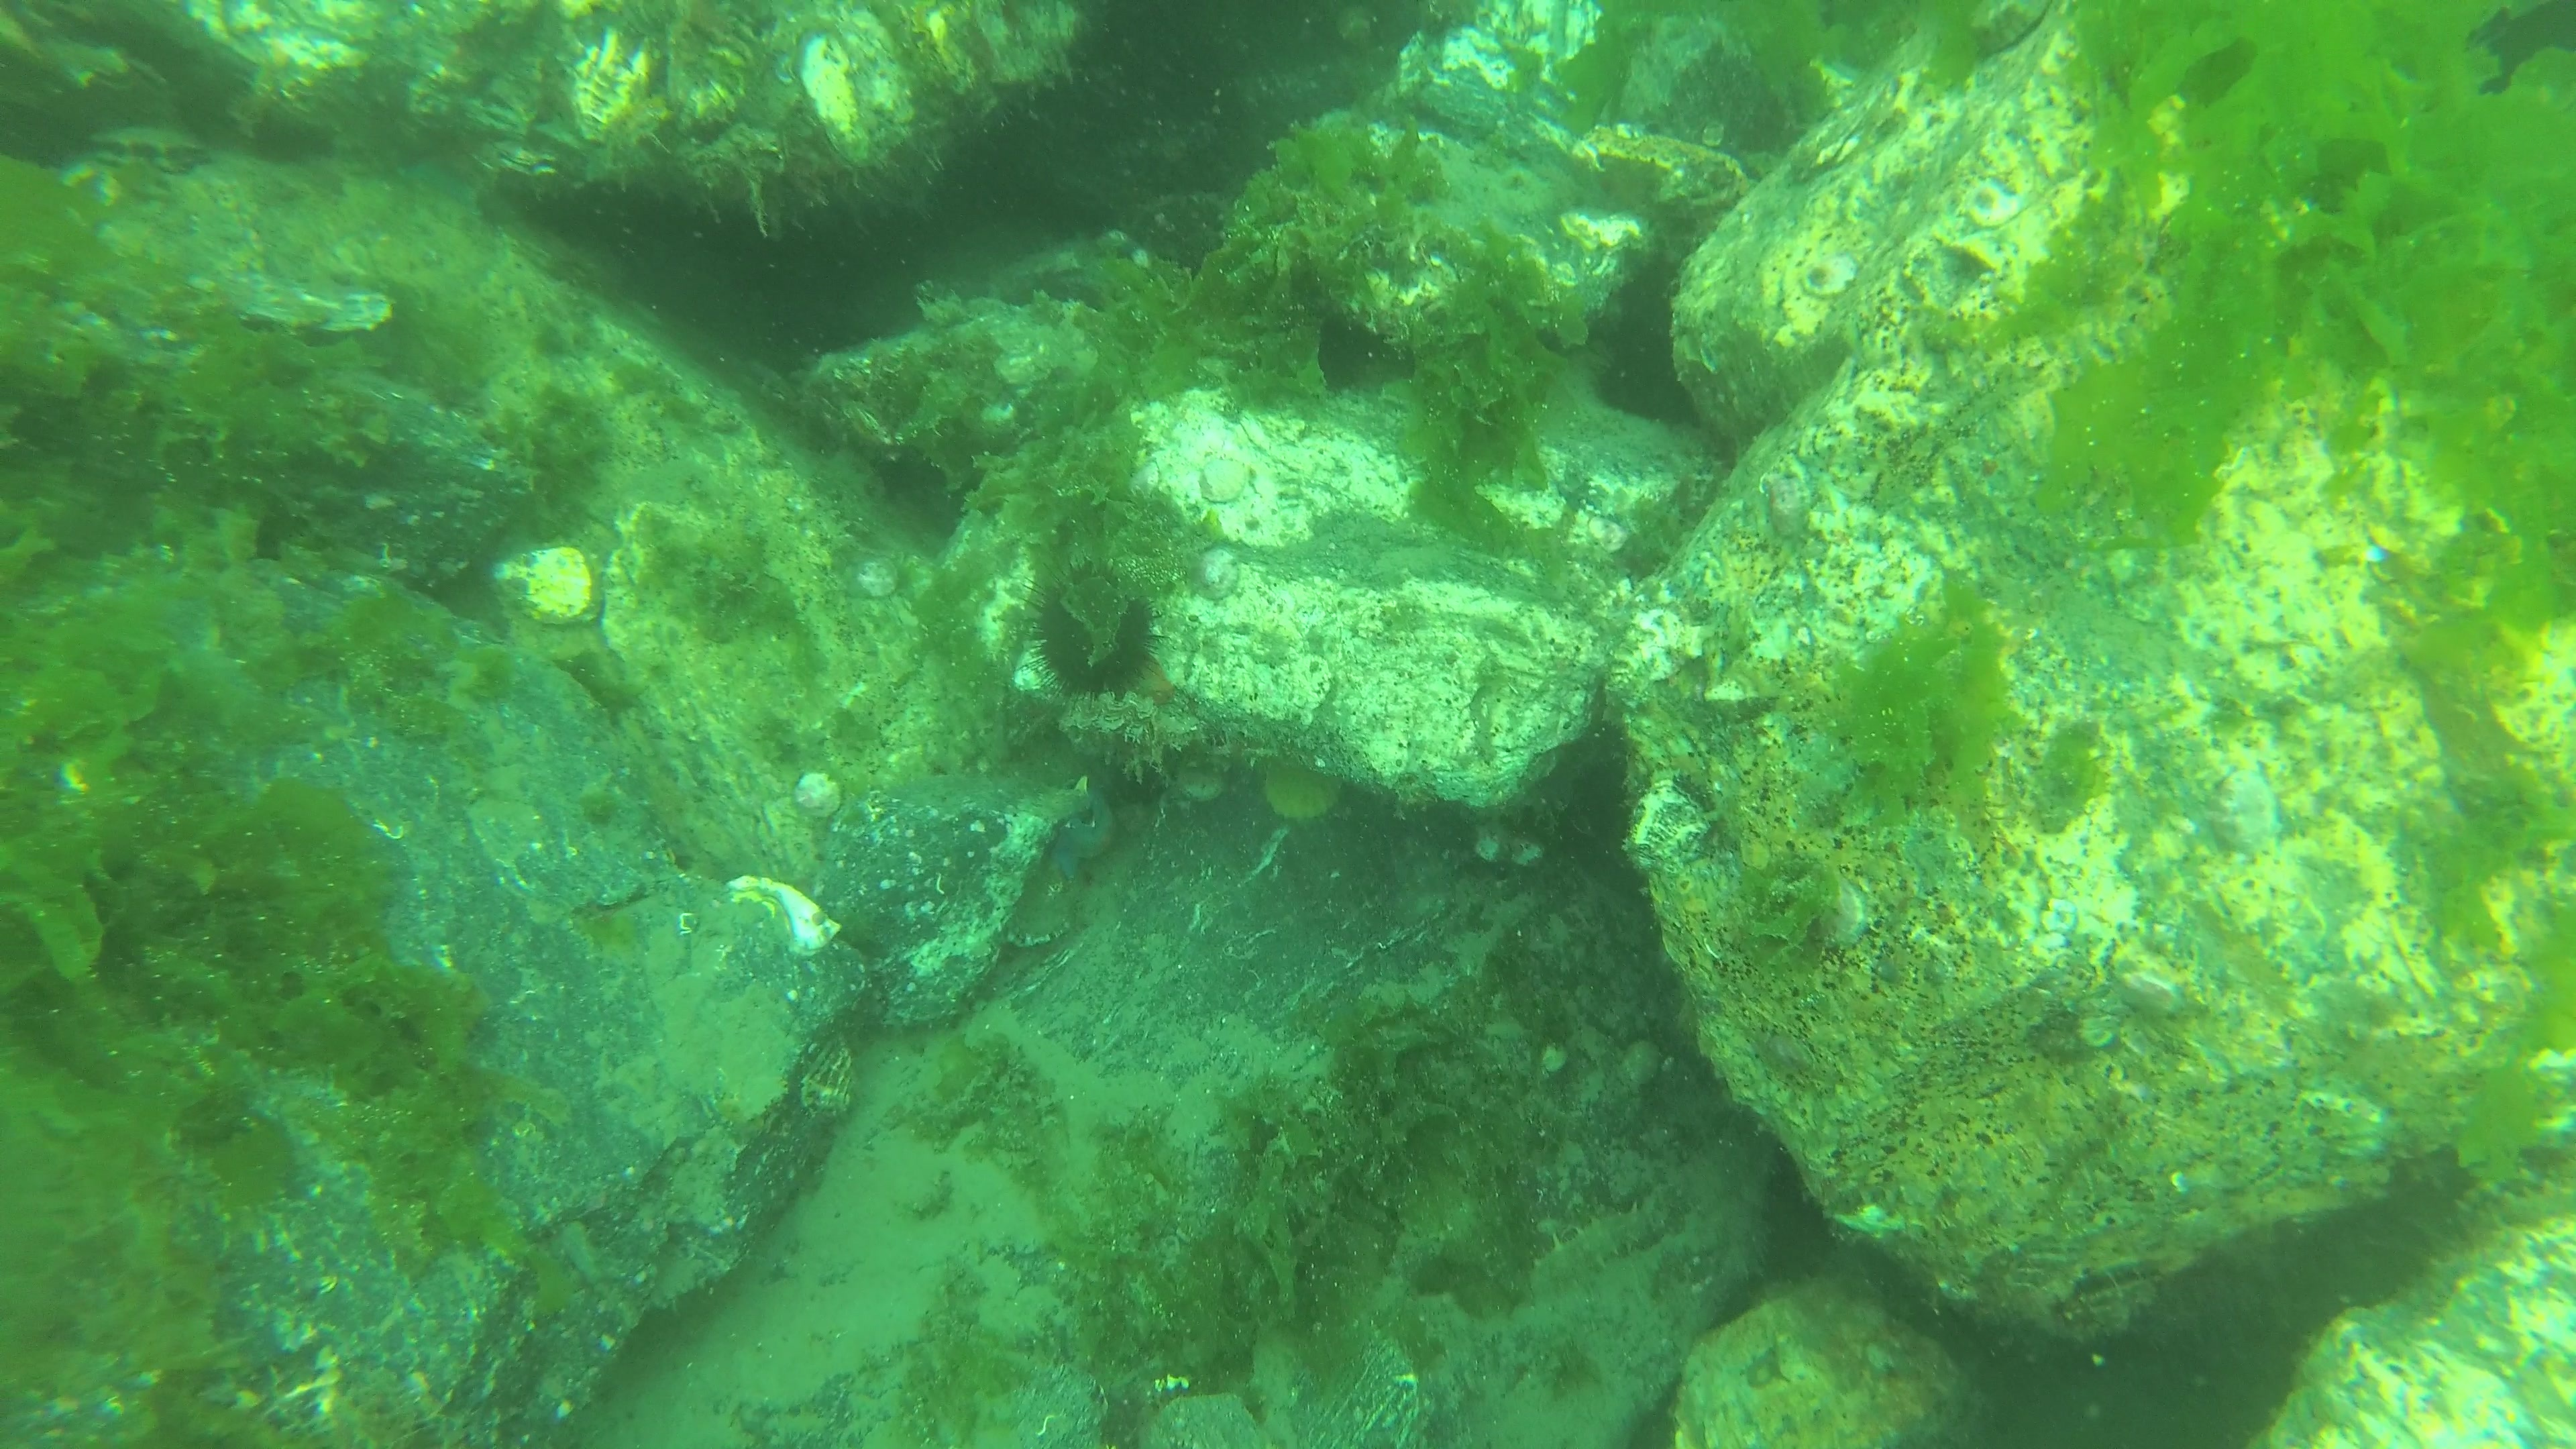echinus: (1016, 563, 1175, 711)
holothurian: (1523, 1191, 1672, 1292)
